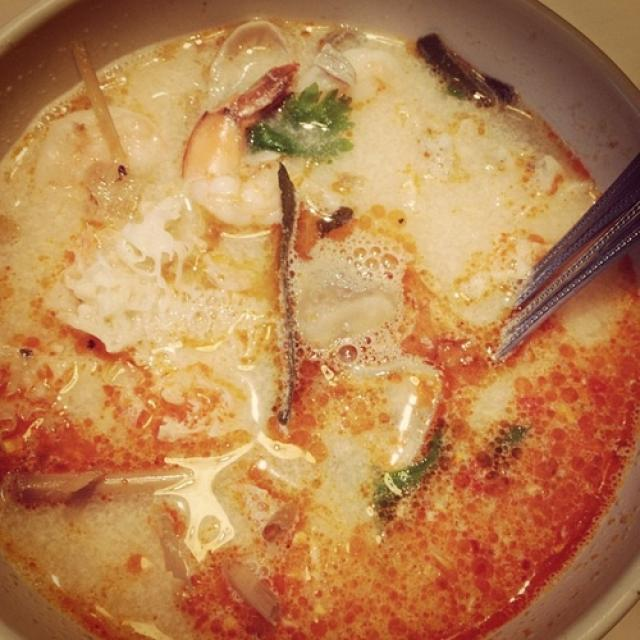汤锅炖物: (15, 18, 617, 621)
